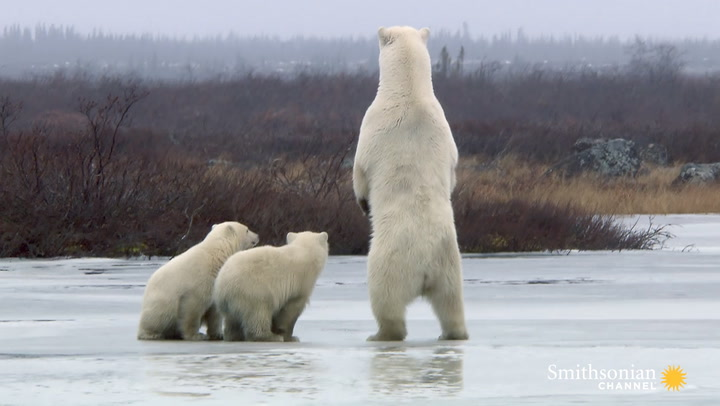Polar Bear: (338, 19, 489, 337)
